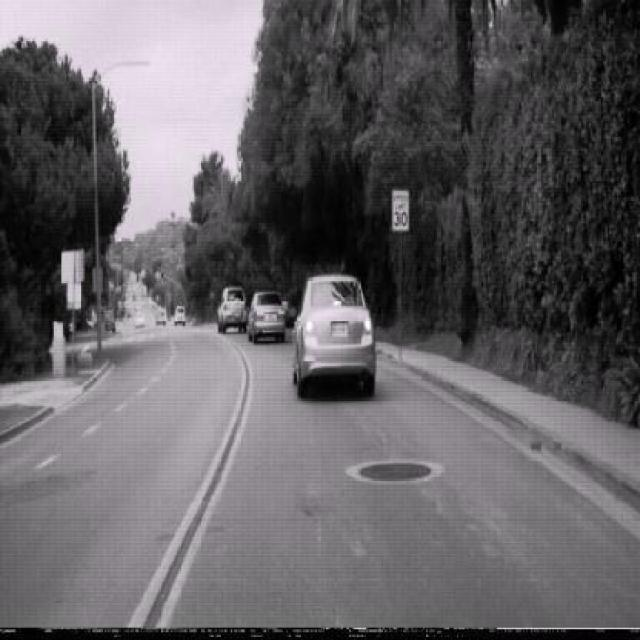speedLimit30: (391, 190, 409, 232)
